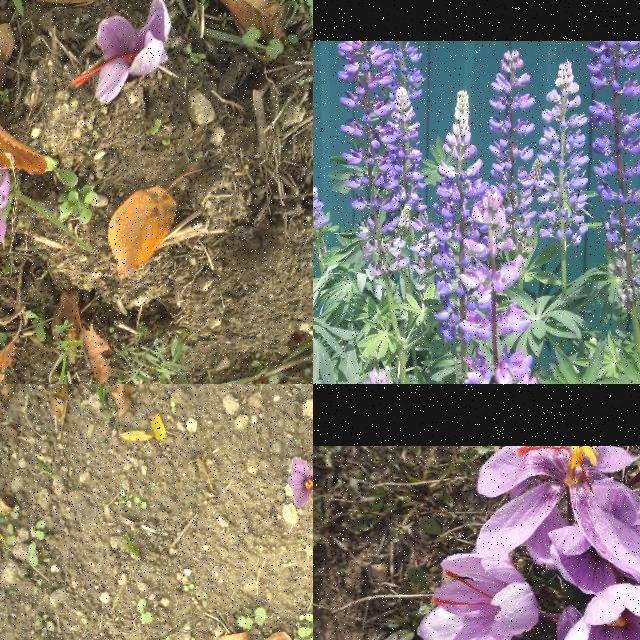flower: (71, 0, 172, 104), (430, 553, 540, 640), (559, 583, 640, 640), (286, 457, 313, 509)
overlap: (416, 446, 640, 640)
